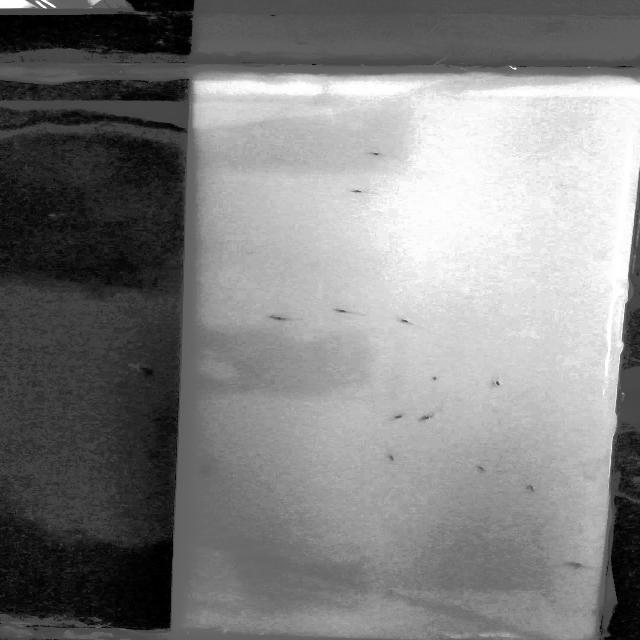shrimp: (329, 305, 366, 318), (473, 464, 506, 478), (388, 313, 418, 327), (566, 560, 597, 571), (266, 314, 300, 324), (415, 413, 442, 423), (386, 451, 404, 465), (197, 463, 218, 475), (524, 482, 544, 494), (347, 188, 373, 197), (389, 409, 408, 420), (363, 150, 389, 158), (488, 381, 516, 387), (426, 376, 442, 385)
